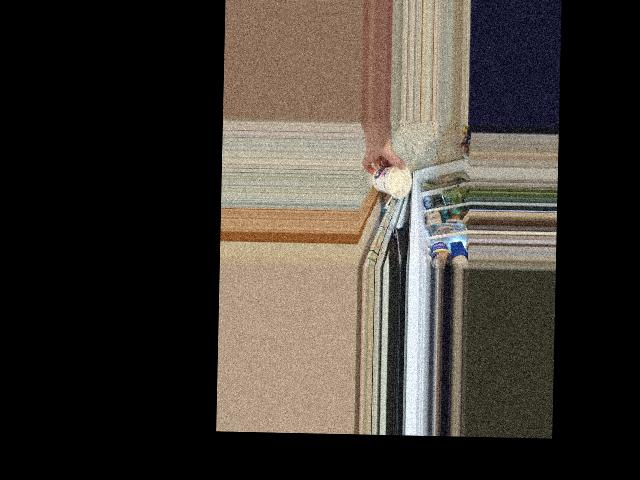cotage: (373, 164, 415, 196)
